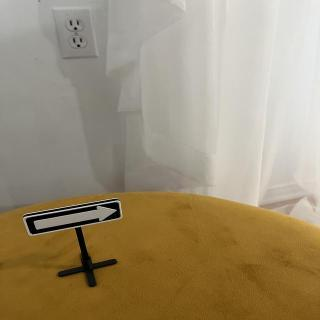sign_oneway_right: (22, 199, 125, 239)
